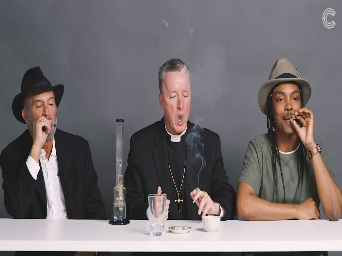smoke: (44, 119, 57, 126), (288, 116, 302, 119)
